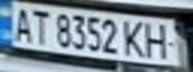2: (100, 16, 121, 56)
3: (66, 11, 87, 51)
5: (84, 15, 103, 52)
8: (51, 10, 72, 48)
A: (6, 4, 36, 43)
H: (139, 19, 178, 60)
K: (121, 17, 148, 59)
T: (27, 7, 54, 45)
